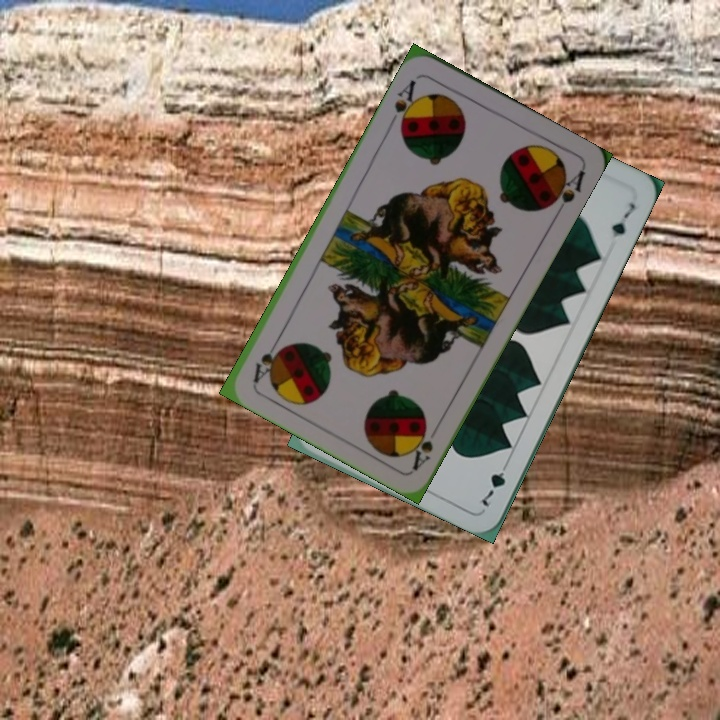G7: (477, 456, 512, 510)
SA: (385, 75, 423, 132), (406, 418, 436, 473)
